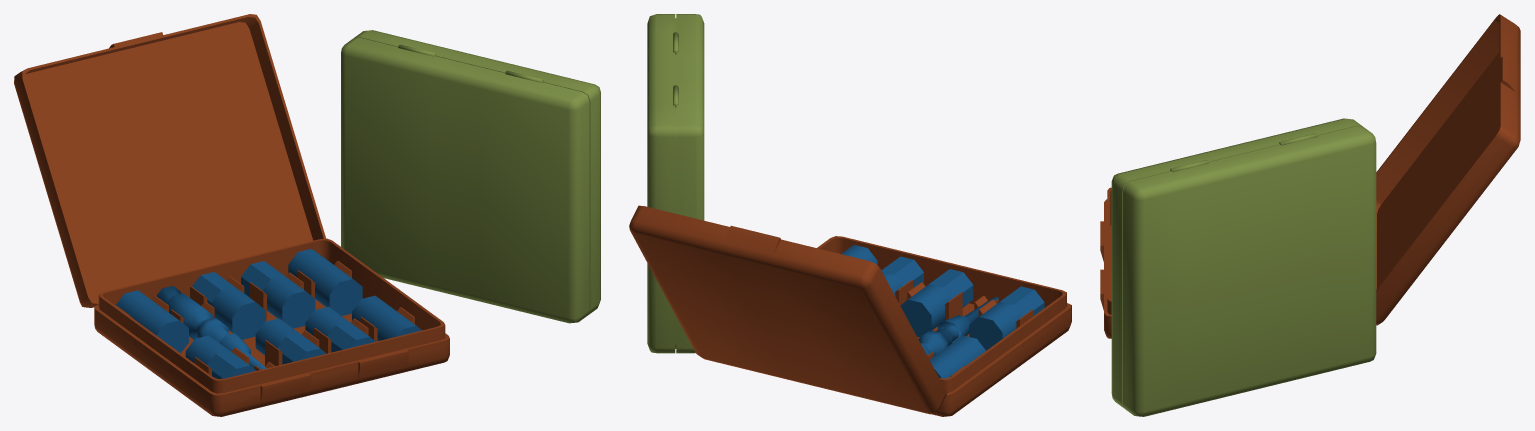
The model's file is экспорт 2.fbx.
3 views of the same model, side by side, from view 1: azimuth 30°, elevation 25°; view 2: azimuth 150°, elevation 25°; view 3: azimuth 270°, elevation 25° (orthographic).
Parts seen in each view (by area): view 1: Object003, Object004, Box049, Box070, Cylinder070, Cylinder068, Cylinder065, Cylinder062, Cylinder067, Cylinder066, Cylinder064, Cylinder069 (+1 smaller); view 2: Object003, Box049, Box070, Object004, Cylinder066, Cylinder069, Cylinder062, Cylinder067, Cylinder064; view 3: Box070, Object003, Object004, Box049.
Part boxes in pixels (x1,y1,x2,y2): Object003: (14,14,325,307); Object004: (341,37,589,323); Box049: (94,238,449,416); Box070: (354,30,600,314); Cylinder070: (241,261,315,328); Cylinder068: (192,272,265,339); Cylinder065: (288,248,362,315); Cylinder062: (156,286,266,369); Cylinder067: (116,290,188,353); Cylinder066: (255,318,326,364); Cylinder064: (305,306,375,352); Cylinder069: (185,335,256,378); Object003: (629,205,946,414); Box049: (817,236,1071,416); Box070: (647,14,676,353); Object004: (676,14,704,353); Cylinder066: (900,269,973,337); Cylinder069: (969,286,1044,350); Cylinder062: (918,296,999,356); Cylinder067: (930,335,985,378); Cylinder064: (881,256,923,295); Box070: (1123,126,1376,416); Object003: (1376,14,1520,325); Object004: (1111,118,1362,408); Box049: (1100,187,1111,338).
Size of the model in its own units: 169 by 92.31 by 150.
